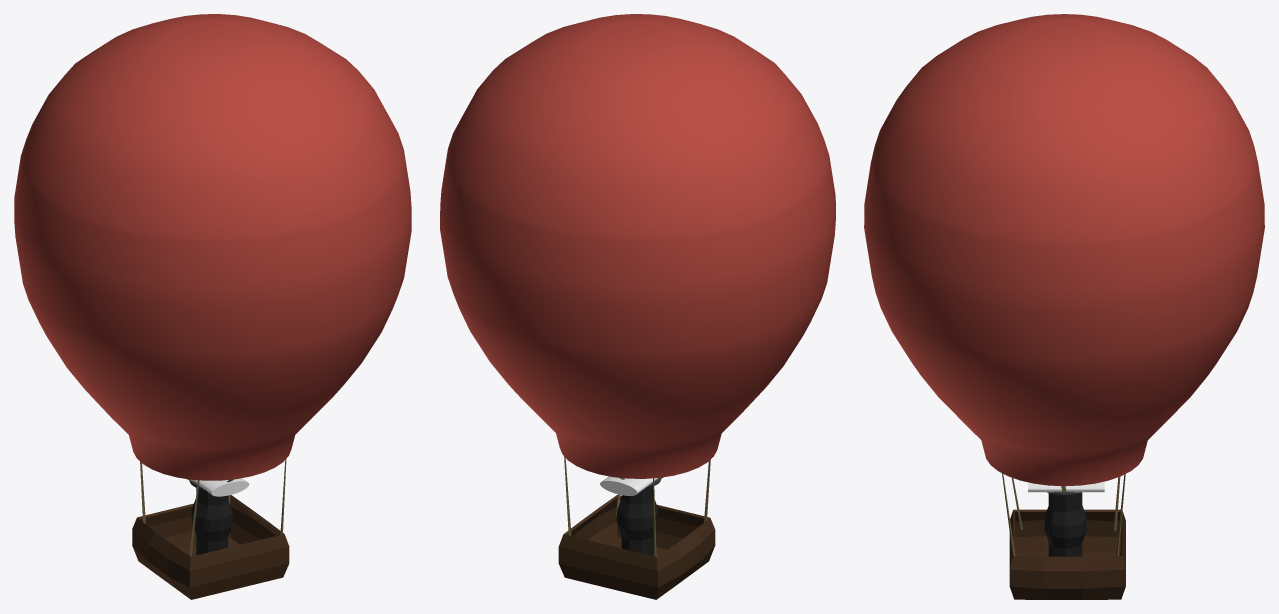
The model's file is Balloon.fbx.
3 views of the same model, side by side, from view 1: azimuth 30°, elevation 25°; view 2: azimuth 150°, elevation 25°; view 3: azimuth 270°, elevation 25° (orthographic).
Visible parts, largest first — view 1: Circle, Plane, Cylinder.001, Cylinder; view 2: Circle, Plane, Cylinder.001, Cylinder; view 3: Circle, Plane, Cylinder.001, Cylinder.
Boxes of the visible parts, x1=… form: Circle: x1=14, y1=14, x2=411, y2=480; Plane: x1=132, y1=495, x2=289, y2=599; Cylinder.001: x1=191, y1=488, x2=232, y2=555; Cylinder: x1=192, y1=478, x2=249, y2=496; Circle: x1=440, y1=14, x2=835, y2=478; Plane: x1=558, y1=495, x2=715, y2=599; Cylinder.001: x1=617, y1=486, x2=657, y2=555; Cylinder: x1=600, y1=476, x2=658, y2=495; Circle: x1=864, y1=14, x2=1264, y2=486; Plane: x1=1009, y1=509, x2=1125, y2=599; Cylinder.001: x1=1044, y1=492, x2=1086, y2=556; Cylinder: x1=1028, y1=481, x2=1104, y2=492.
Size of the model in its own units: 422 by 621 by 419.
